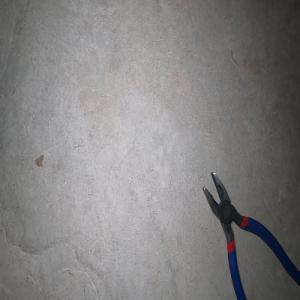Pliers: (202, 171, 300, 300)
